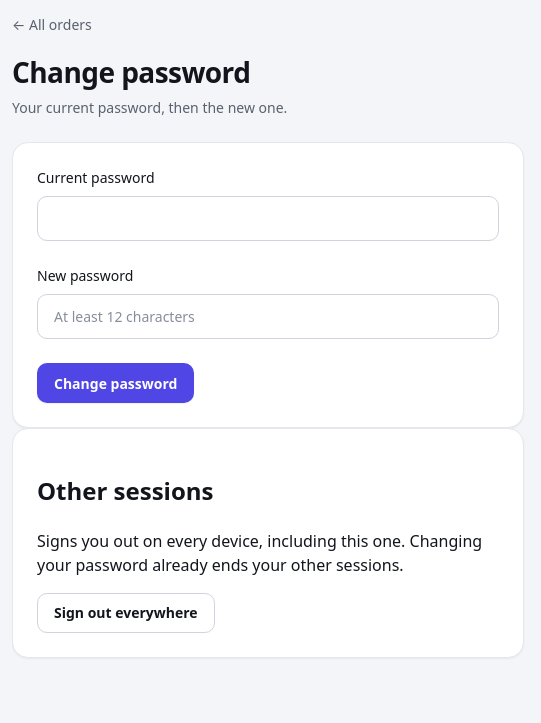
Test case: ChangePasswordPage › sign out everywhere › shows the error banner when the request fails
The image size is (541, 723).
Click the button "Sign out everywhere" at (126, 613), box x1=37 y1=593 x2=215 y2=633
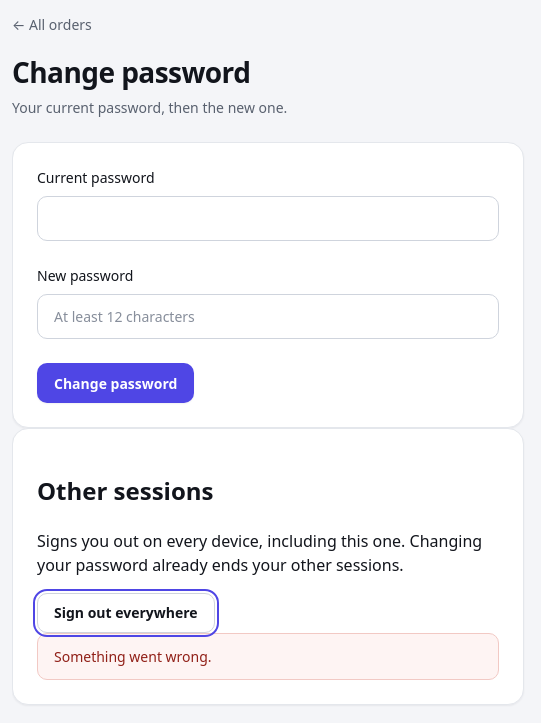
Now the message reads "Something went wrong.", box x1=54 y1=647 x2=212 y2=666
